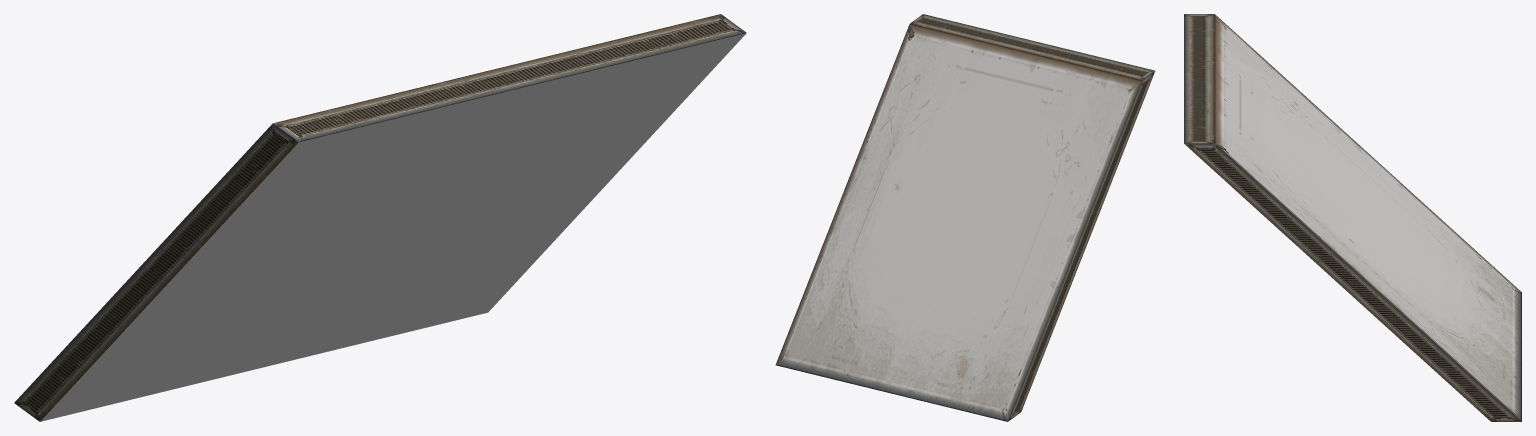
File: scifi_wall_top1_2.FBX
3 views of the same model, side by side, from view 1: azimuth 30°, elevation 25°; view 2: azimuth 150°, elevation 25°; view 3: azimuth 270°, elevation 25° (orthographic). The views are drawn at different scales.
Parts seen in each view (by area): view 1: Plane322; view 2: Plane322; view 3: Plane322.
Boxes of the visible parts, box(x1,y1,x2,y2) form: Plane322: box(14, 14, 746, 421); Plane322: box(775, 14, 1155, 421); Plane322: box(1184, 14, 1521, 421).
Size of the model in its own units: 254 by 254 by 279.
